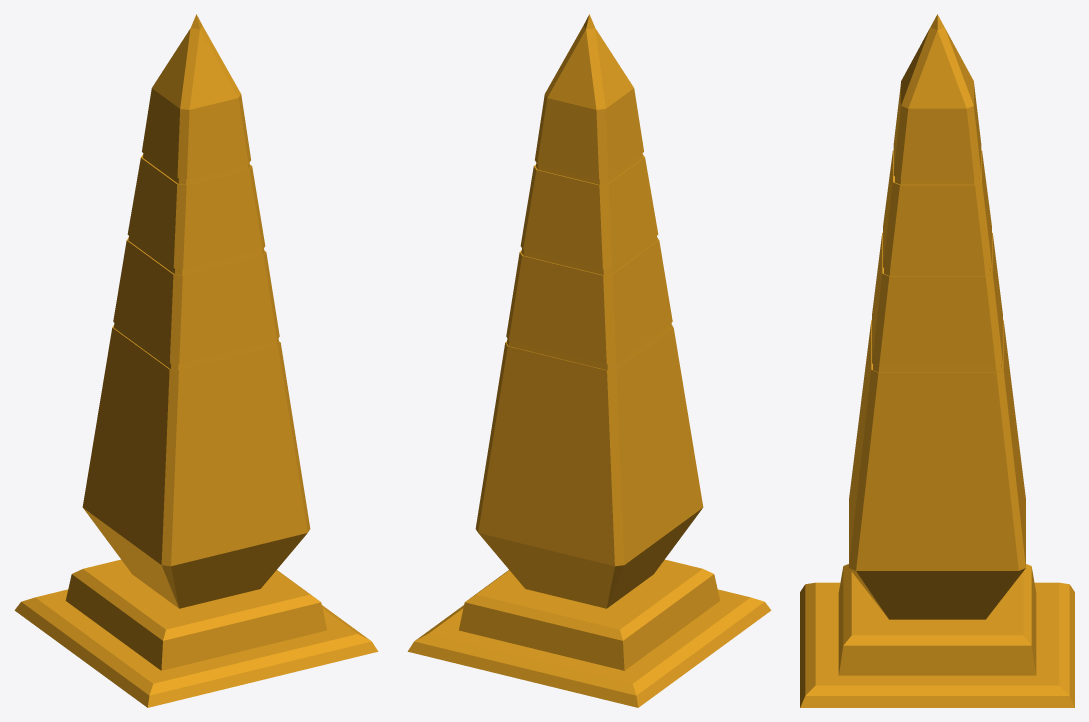
Rendered from obelisk.fbx.
The picture shows the model from 3 angles, left to right: view 1: azimuth 30°, elevation 25°; view 2: azimuth 150°, elevation 25°; view 3: azimuth 270°, elevation 25°; orthographic projection. The views are drawn at different scales.
Visible parts, largest first — view 1: Cube; view 2: Cube; view 3: Cube.
Boxes of the visible parts, x1,y1,x2,y2 form: Cube: (14,14,378,707); Cube: (407,14,771,707); Cube: (800,14,1074,707).
Size of the model in its own units: 69.94 by 179 by 69.94.
